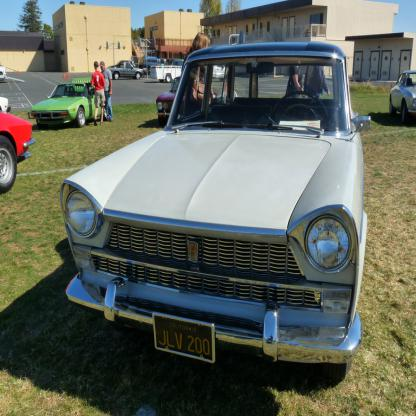Car: (58, 39, 372, 376), (36, 76, 104, 125), (0, 112, 37, 191), (389, 70, 416, 124), (156, 76, 185, 119), (0, 97, 9, 111)
